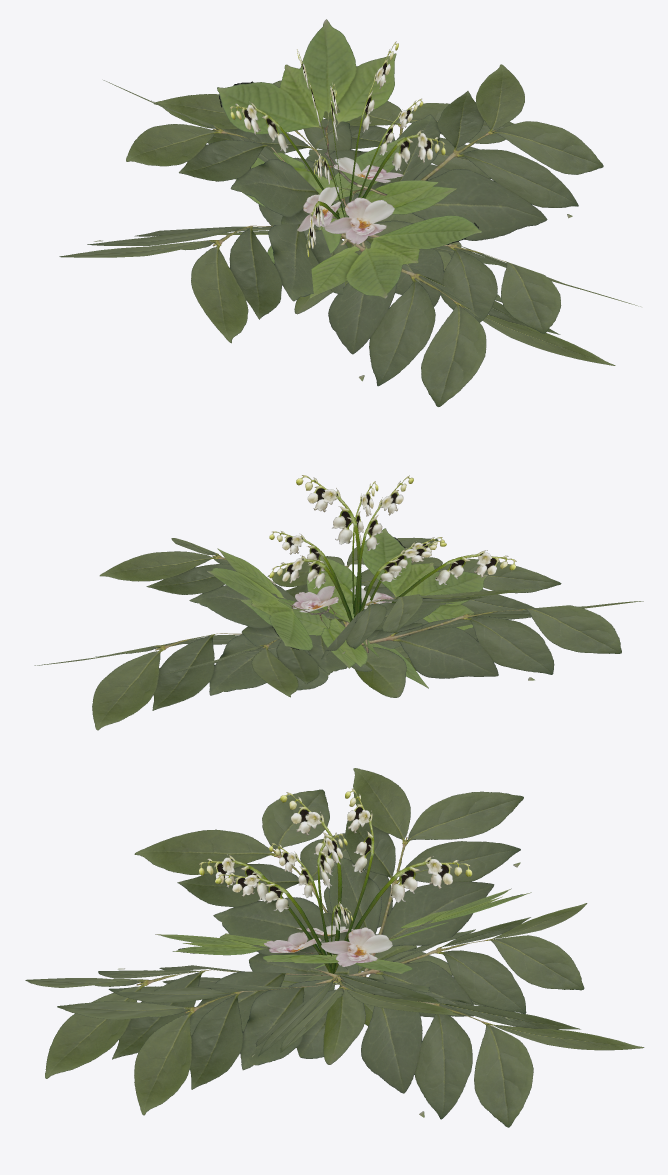
Rendered from Plant_Lily.FBX.
3 renders of one model, top to bottom at view 1: azimuth 30°, elevation 25°; view 2: azimuth 150°, elevation 25°; view 3: azimuth 270°, elevation 25°, orthographic. The views are drawn at different scales.
Visible parts, largest first — view 1: Plant_Lily; view 2: Plant_Lily; view 3: Plant_Lily.
Boxes of the visible parts, left/top/right/bottom form: Plant_Lily: left=59, top=19, right=640, bottom=406; Plant_Lily: left=34, top=475, right=643, bottom=730; Plant_Lily: left=25, top=768, right=644, bottom=1127.
Size of the model in its own units: 91.47 by 36.13 by 85.64.
